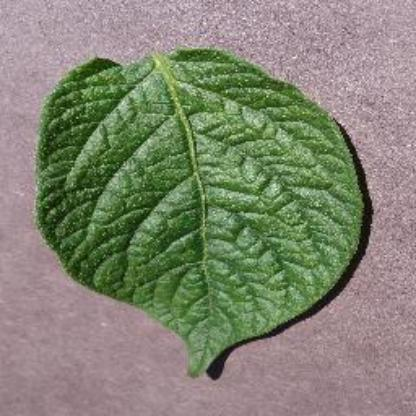Healthy-plant: (30, 40, 372, 384)
